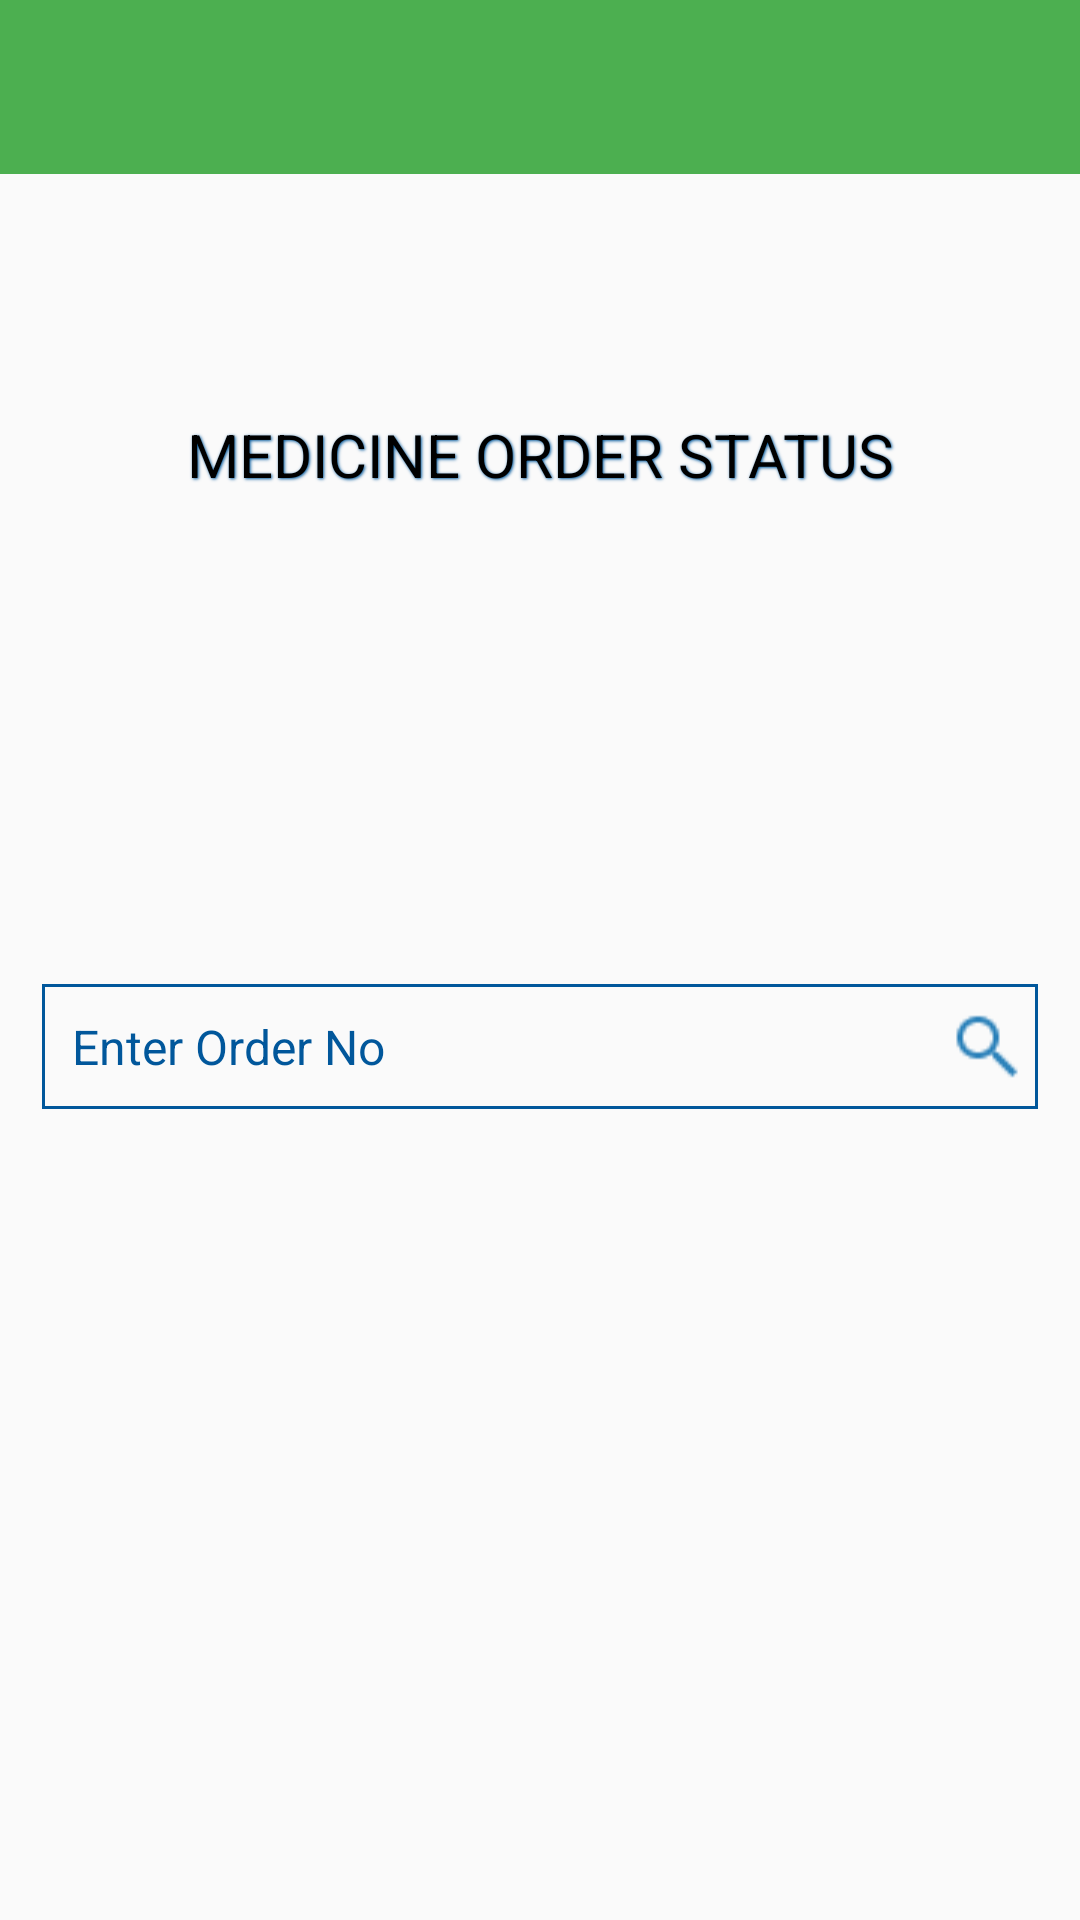

Icon click points for this 1080px×1920px phone screenshot, format point (x, y):
search: point (987, 1046)
